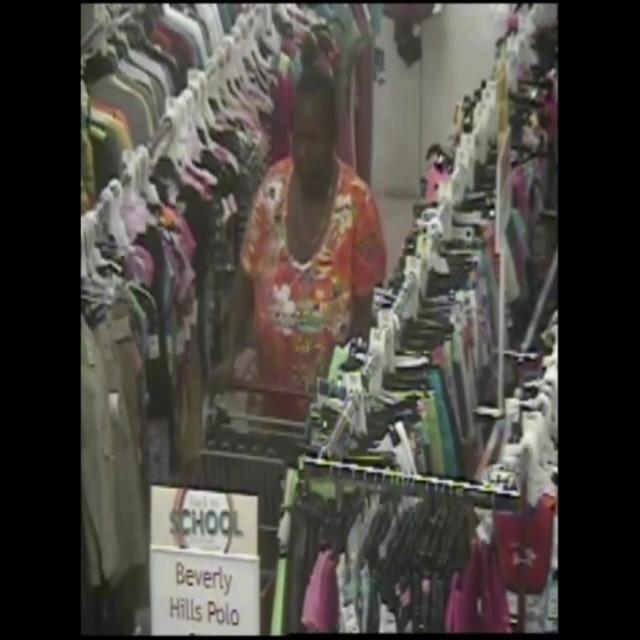normal: (237, 13, 396, 385)
